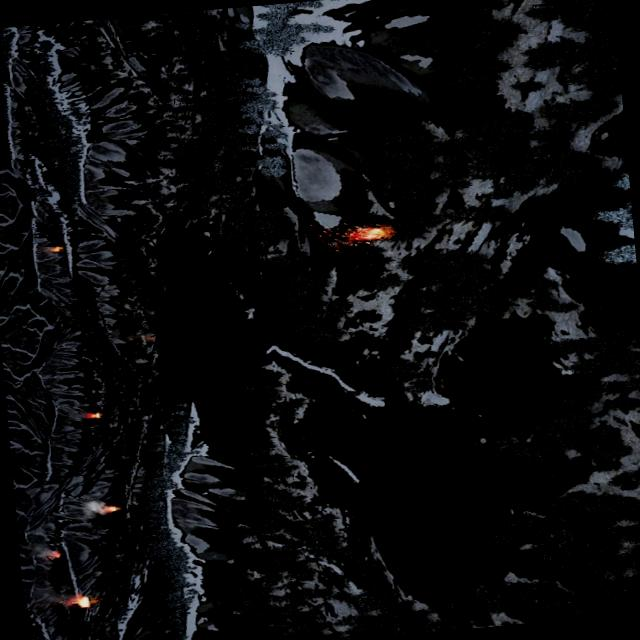fire: (345, 224, 390, 242), (74, 593, 90, 606), (46, 243, 64, 251), (86, 410, 100, 418), (48, 550, 62, 558), (105, 504, 118, 511)
smoke: (79, 498, 106, 518), (50, 592, 74, 604)
